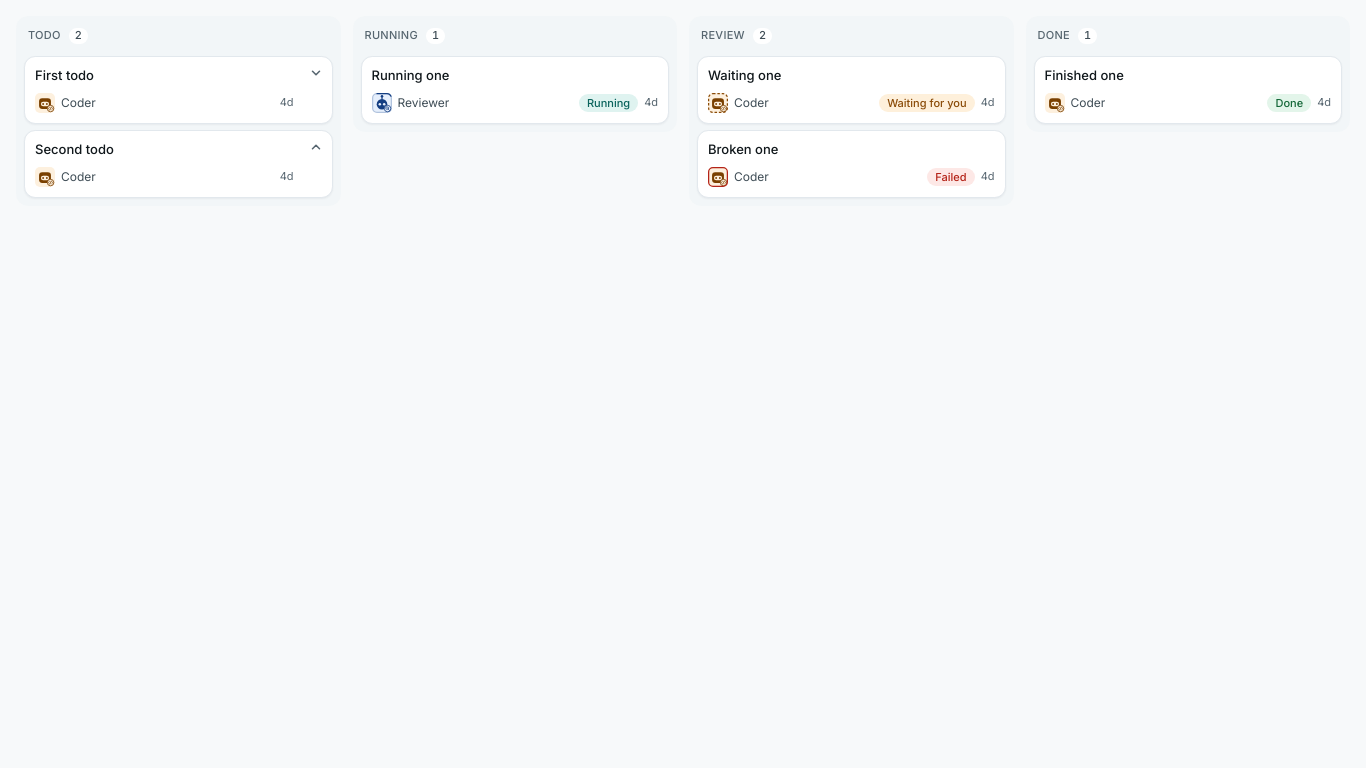
Test: TaskBoard › shows the server's message when a start is refused
Click the button "First todo Coder 4d" at point(64, 75), box [29,61,300,119]
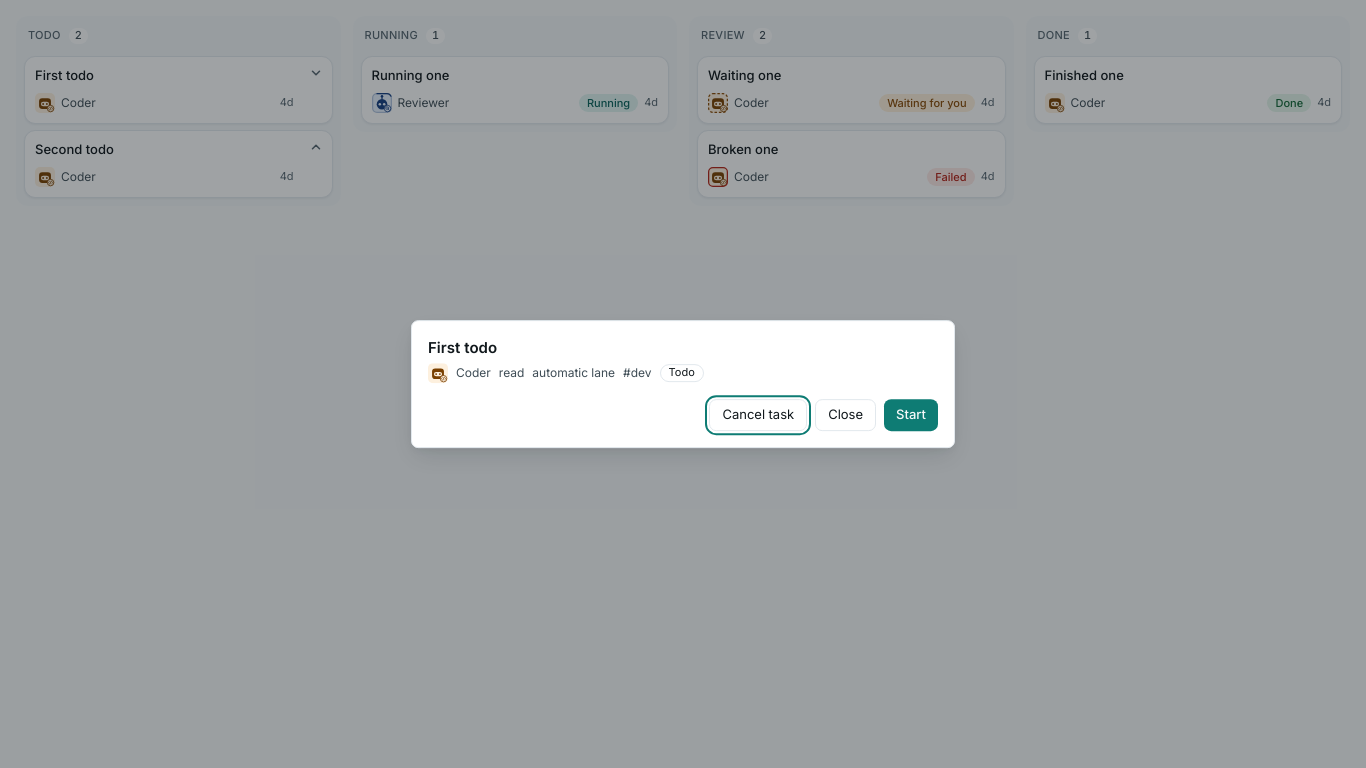
Click the button "Start" at point(911, 415), box [884,399,938,431]
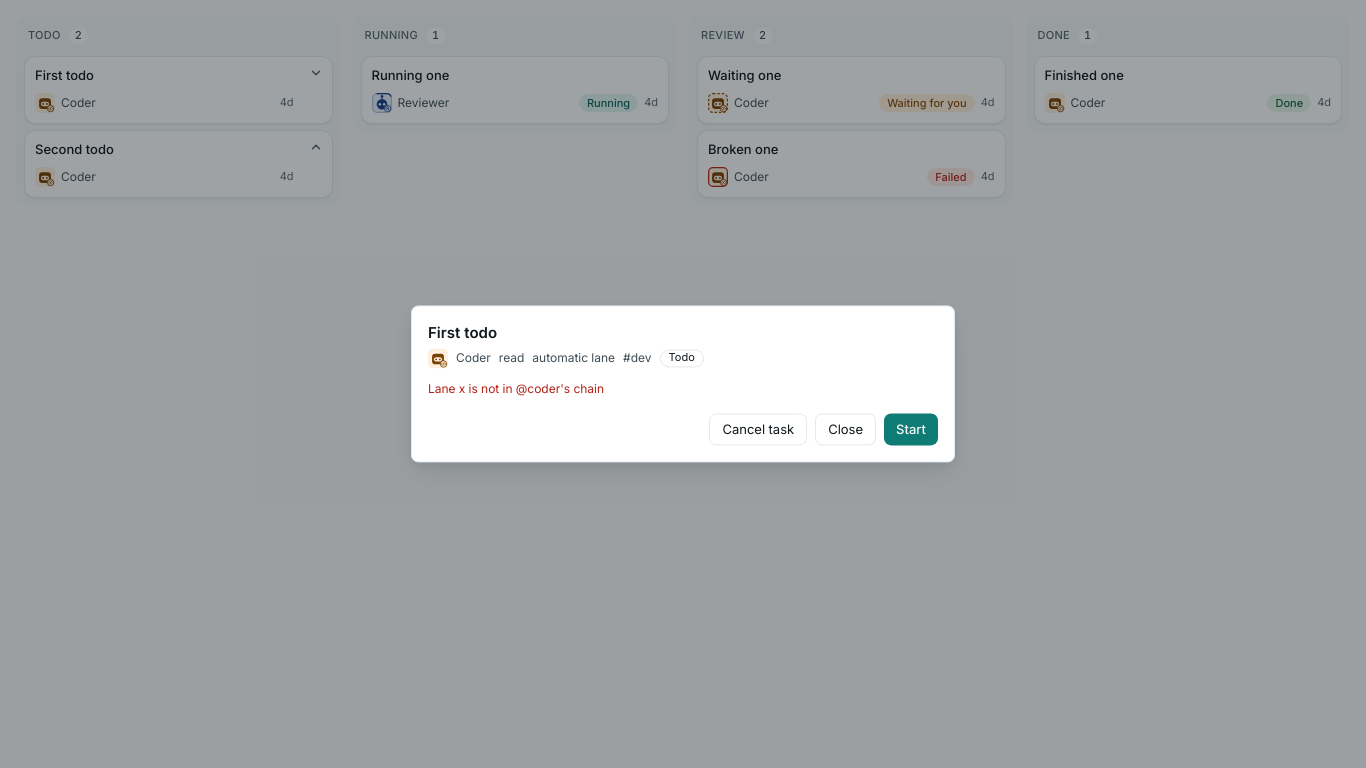
Now the message reads "Lane x is not in @coder's chain", box [428,381,604,396]
